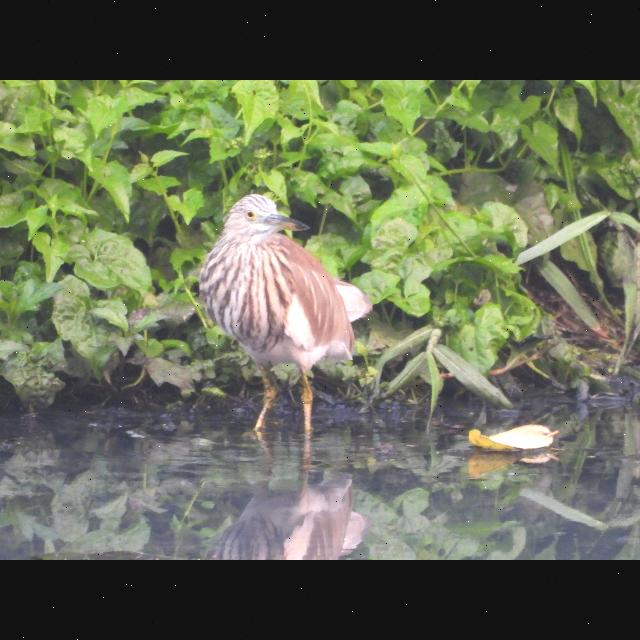heron: (202, 193, 366, 435)
